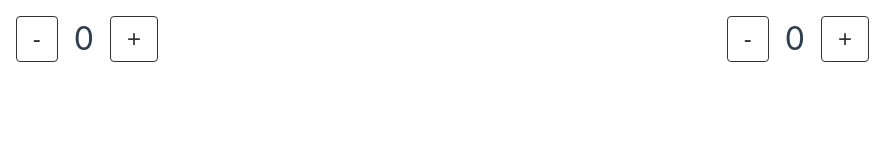
Counter › max 속성을 준수합니다
Click the 2nd button with class "increase".
click(845, 39)  # box left=821, top=16, right=869, bottom=62
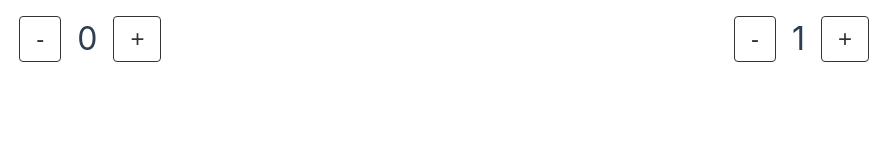
Click the 2nd button with class "increase".
click(845, 39)  # box left=821, top=16, right=869, bottom=62
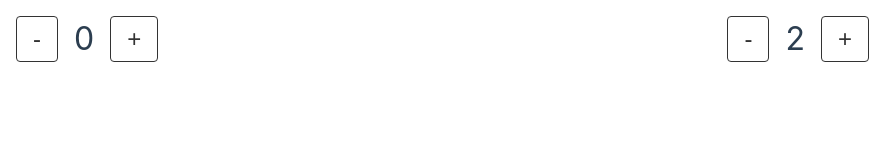
Click the 2nd button with class "increase".
click(845, 39)  # box left=821, top=16, right=869, bottom=62
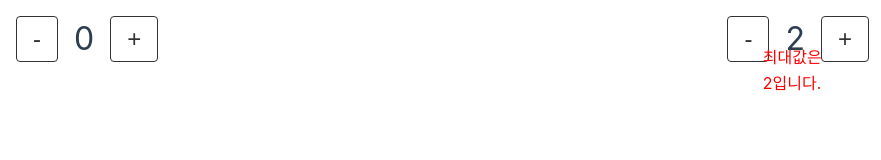
Expected: the text with class "count-value" reads "2", left=786, top=19, right=805, bottom=58
Expected: the text "최대값은 2입니다." is shown, left=763, top=47, right=822, bottom=93
